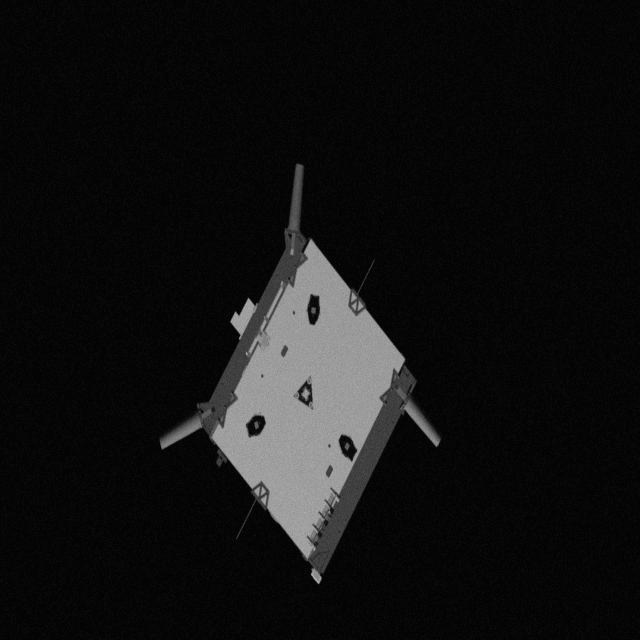satellite: (150, 162, 446, 586)
